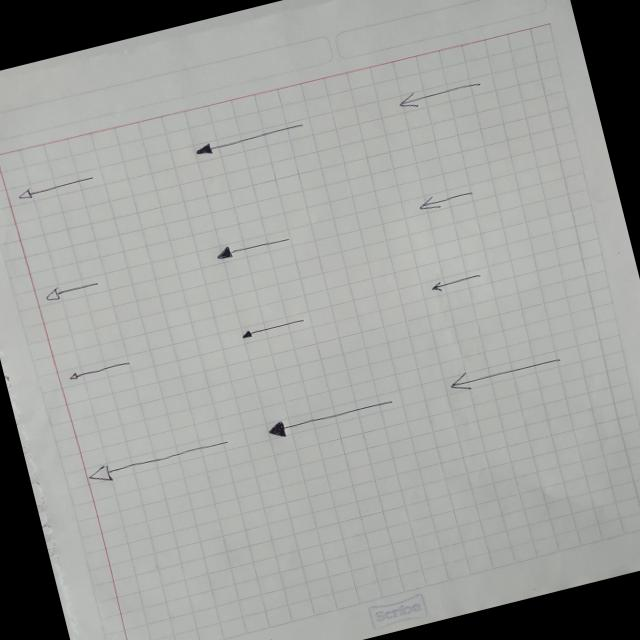arrow_line_left: (82, 431, 232, 488), (263, 390, 401, 442), (444, 346, 566, 398), (188, 117, 308, 162), (392, 71, 485, 116), (11, 166, 101, 206), (210, 228, 296, 266), (412, 182, 477, 216), (37, 272, 103, 305), (62, 356, 132, 385), (237, 314, 309, 342), (426, 271, 482, 295)
